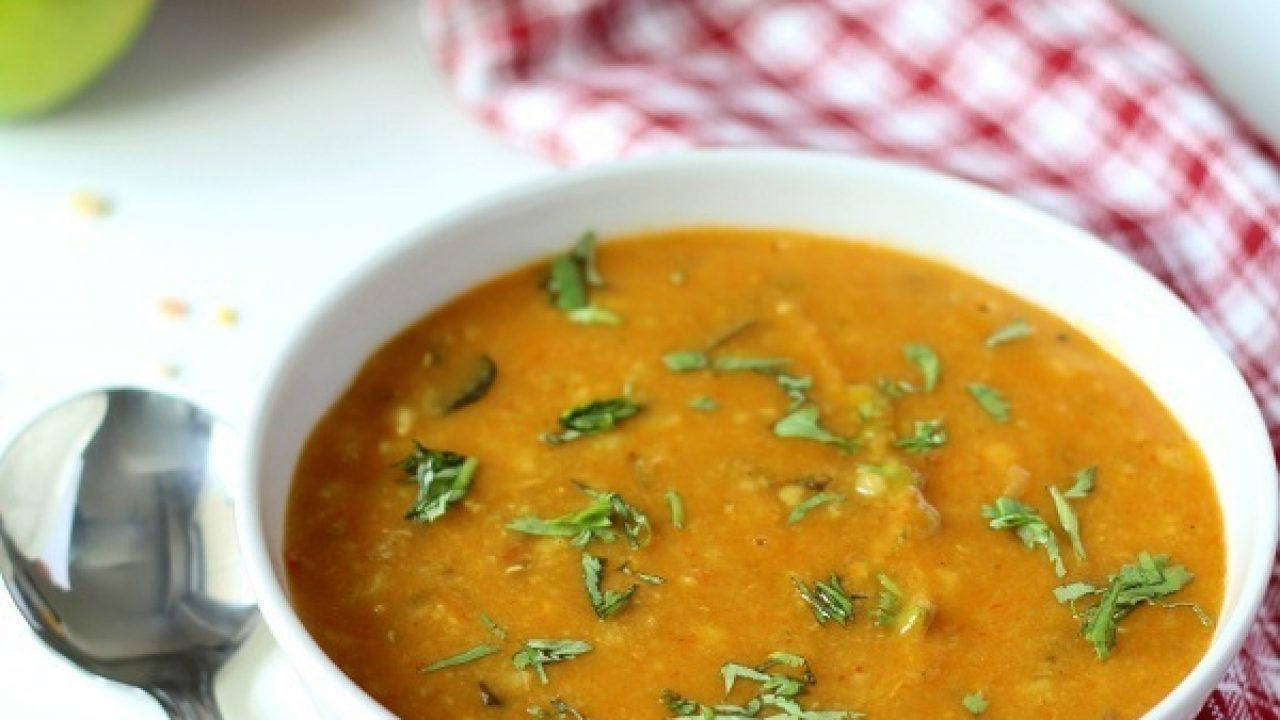dal: (286, 225, 1227, 720)
